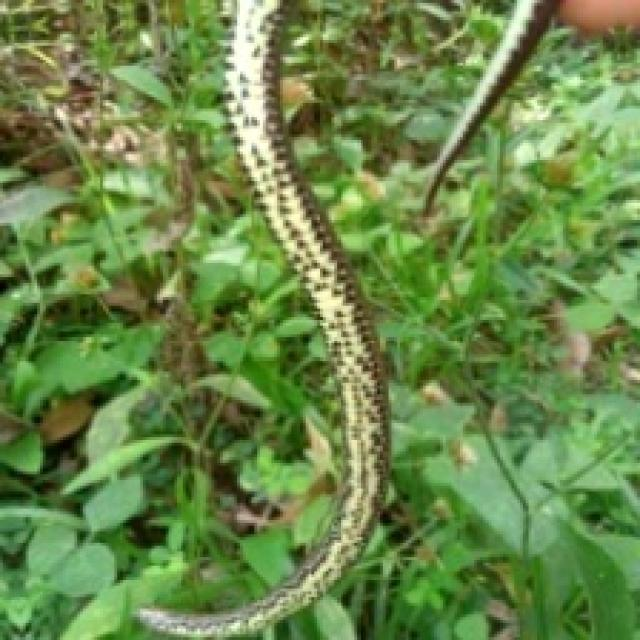reinhardts lined snake: (137, 0, 386, 634), (423, 0, 554, 214)
